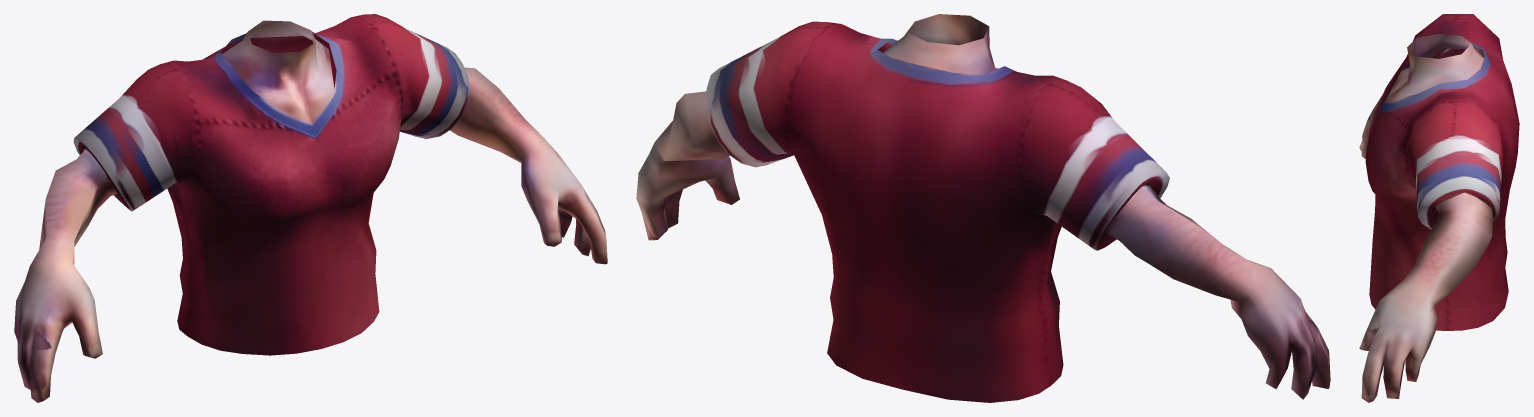
Rendered from crowd_torso_m10_red_vneck.fbx.
3 views of the same model, side by side, from view 1: azimuth 30°, elevation 25°; view 2: azimuth 150°, elevation 25°; view 3: azimuth 270°, elevation 25° (orthographic). The views are drawn at different scales.
Visible parts, largest first — view 1: tripo_node_f2f2f99e-cdf0-4912-94b7-c80e256ec459; view 2: tripo_node_f2f2f99e-cdf0-4912-94b7-c80e256ec459; view 3: tripo_node_f2f2f99e-cdf0-4912-94b7-c80e256ec459.
Boxes of the visible parts, x1,y1,x2,y2 form: tripo_node_f2f2f99e-cdf0-4912-94b7-c80e256ec459: (14, 14, 607, 402); tripo_node_f2f2f99e-cdf0-4912-94b7-c80e256ec459: (636, 14, 1330, 402); tripo_node_f2f2f99e-cdf0-4912-94b7-c80e256ec459: (1359, 14, 1519, 402).
Size of the model in its own units: 0.9995 by 0.4741 by 0.2739.
1 material, 1 textured.
